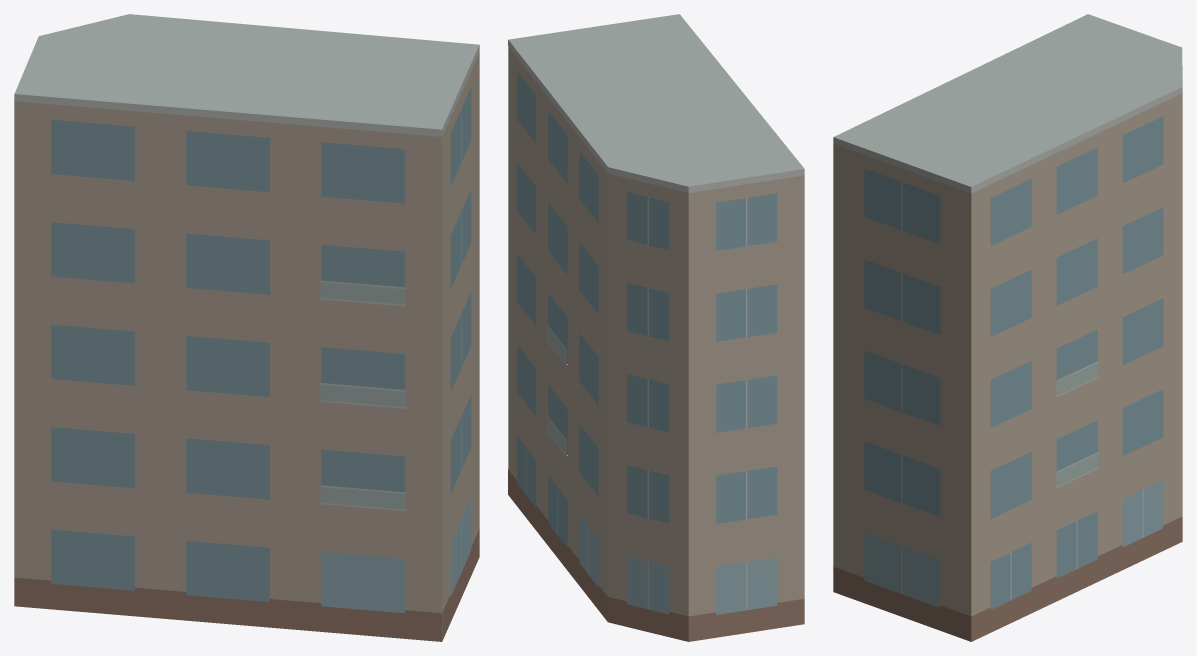
Rendered from survey-upis-32889894.glb.
The picture shows the model from 3 angles, left to right: view 1: azimuth 30°, elevation 25°; view 2: azimuth 150°, elevation 25°; view 3: azimuth 270°, elevation 25°; orthographic projection. The views are drawn at different scales.
Parts seen in each view (by area): view 1: survey-upis-32889894.tmp; view 2: survey-upis-32889894.tmp; view 3: survey-upis-32889894.tmp.
Boxes of the visible parts, <box> form: survey-upis-32889894.tmp: <box>14,14,479,641</box>; survey-upis-32889894.tmp: <box>508,14,804,641</box>; survey-upis-32889894.tmp: <box>833,14,1182,641</box>.
Bounding box in the file's own units: 14.08 × 17.25 × 12.02.
